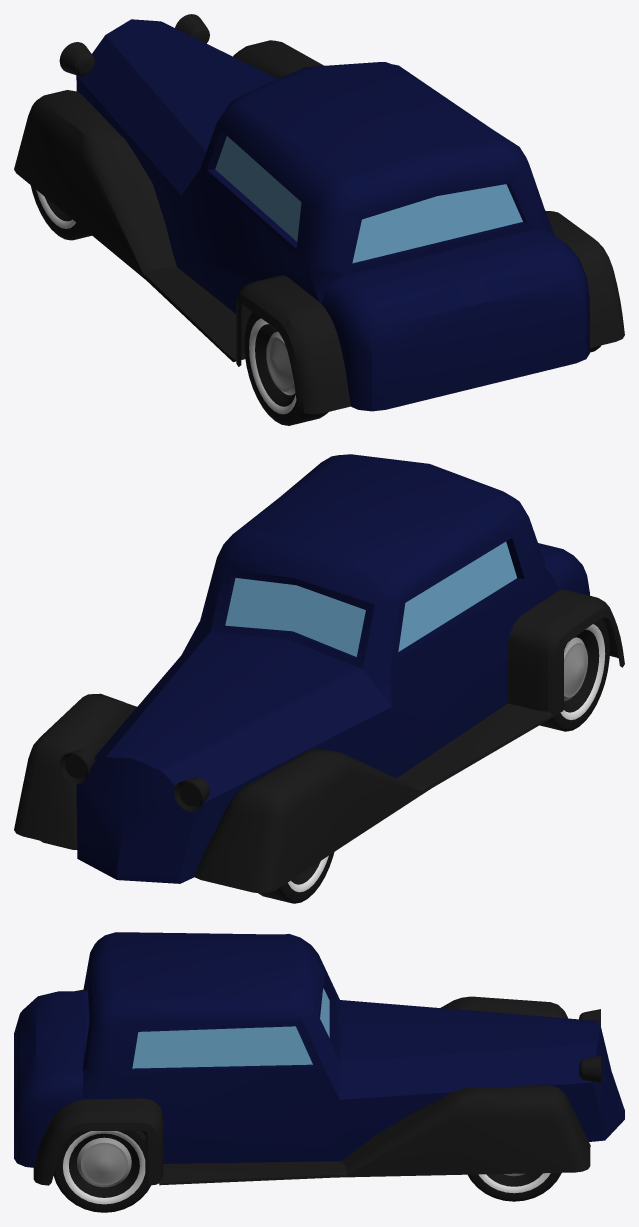
Rendered from Car.fbx.
3 views of the same model, one above another, from view 1: azimuth 30°, elevation 25°; view 2: azimuth 150°, elevation 25°; view 3: azimuth 270°, elevation 25° (orthographic). The views are drawn at different scales.
Visible parts, largest first — view 1: Cube, Cube.001, Cylinder, Cylinder.001; view 2: Cube, Cube.001, Cylinder, Cylinder.001; view 3: Cube, Cube.001, Cylinder, Cylinder.001.
Boxes of the visible parts, left/top/right/bottom form: Cube: left=76, top=19, right=589, bottom=411; Cube.001: left=14, top=40, right=624, bottom=414; Cylinder: left=30, top=185, right=601, bottom=425; Cylinder.001: left=59, top=14, right=209, bottom=76; Cube: left=76, top=454, right=589, bottom=883; Cube.001: left=14, top=589, right=624, bottom=893; Cylinder: left=41, top=618, right=609, bottom=903; Cylinder.001: left=59, top=749, right=209, bottom=811; Cube: left=14, top=932, right=624, bottom=1167; Cube.001: left=33, top=989, right=590, bottom=1185; Cylinder: left=53, top=1131, right=561, bottom=1212; Cylinder.001: left=579, top=1009, right=600, bottom=1083.
Size of the model in its own units: 543 by 370 by 1056.
